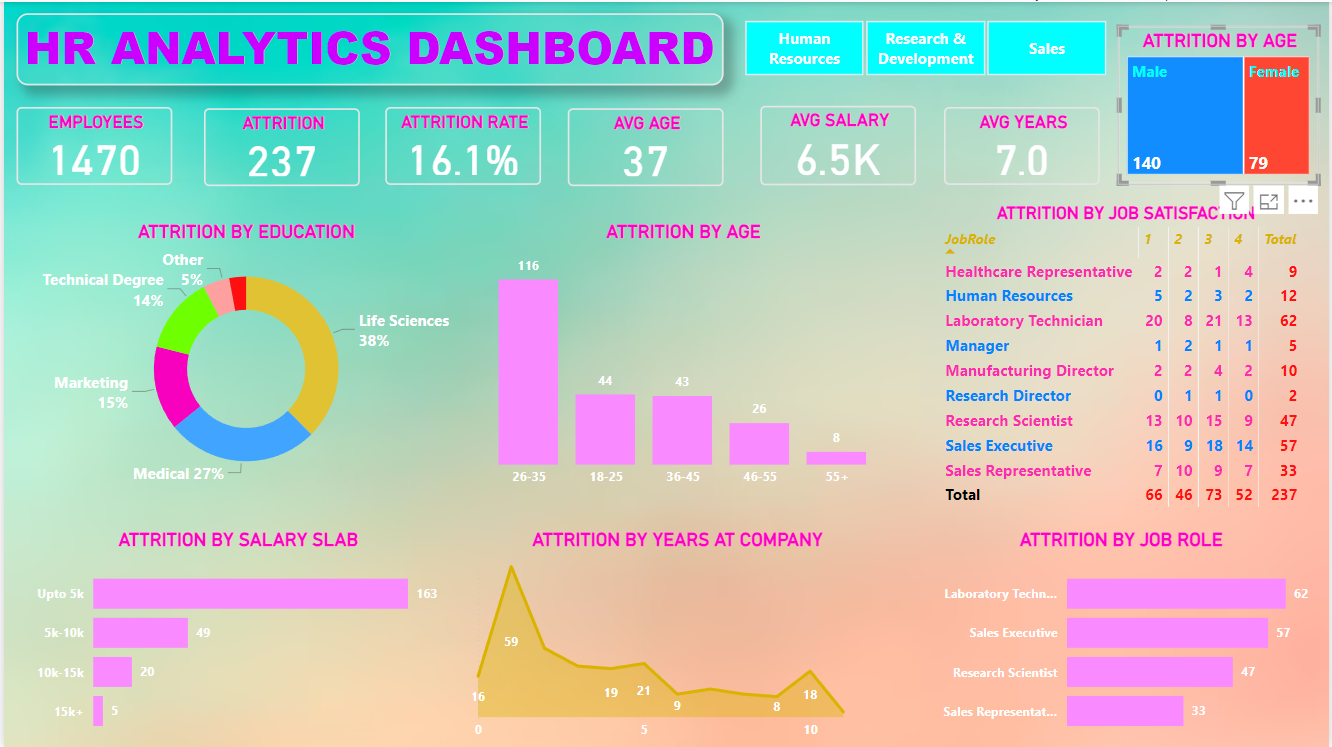

This screenshot's page, from the dashboard's own definition file:
{"tool":"powerbi","page":{"name":"Page 1","canvas":[1280,720],"ordinal":0},"visuals":[{"type":"card","title":"EMPLOYEES","fields":{"Values":["CountNonNull(HR_Analytics.EmpID)"]},"box":[11.7,101.6,150.3,75.1],"z":0},{"type":"card","title":"ATTRITION","fields":{"Values":["Sum(HR_Analytics.AttritionCount)"]},"box":[193,102.3,150.3,75.1],"z":1000},{"type":"card","title":"ATTRITION RATE","fields":{"Values":["HR_Analytics.AttritionRate"]},"box":[367.9,101.1,150.3,75.1],"z":2000},{"type":"card","title":"AVG AGE","fields":{"Values":["Avg(HR_Analytics.Age)"]},"box":[544.1,102.3,150.3,75.1],"z":3000},{"type":"card","title":"AVG SALARY","fields":{"Values":["Avg(HR_Analytics.MonthlyIncome)"]},"box":[729.4,99.8,150.3,76.4],"z":4000},{"type":"card","title":"AVG YEARS","fields":{"Values":["Avg(HR_Analytics.YearsAtCompany)"]},"box":[906.9,101.1,150.3,75.1],"z":5000},{"type":"donutChart","title":"ATTRITION BY EDUCATION","fields":{"Category":["HR_Analytics.EducationField"],"Y":["Sum(HR_Analytics.AttritionCount)"]},"box":[25.9,211.2,417.2,265.6],"z":6000},{"type":"columnChart","title":"ATTRITION BY AGE","fields":{"Category":["HR_Analytics.AgeGroup"],"Y":["Sum(HR_Analytics.AttritionCount)"]},"box":[443.1,211.2,426.2,265.6],"z":7000},{"type":"pivotTable","title":"ATTRITION BY JOB SATISFACTION","fields":{"Rows":["HR_Analytics.JobRole"],"Columns":["HR_Analytics.JobSatisfaction"],"Values":["Sum(HR_Analytics.AttritionCount)"]},"box":[896.5,193,373.1,301.9],"z":8000},{"type":"barChart","title":"ATTRITION BY SALARY SLAB","fields":{"Category":["HR_Analytics.SalarySlab"],"Y":["Sum(HR_Analytics.AttritionCount)"]},"box":[25.9,507.9,401.6,212.5],"z":9000},{"type":"barChart","title":"ATTRITION BY JOB ROLE","fields":{"Category":["HR_Analytics.JobRole"],"Y":["Sum(HR_Analytics.AttritionCount)"]},"box":[888.7,507.9,378.3,212.5],"z":10000},{"type":"stackedAreaChart","title":"ATTRITION BY YEARS AT COMPANY","fields":{"Category":["HR_Analytics.YearsAtCompany"],"Y":["Sum(HR_Analytics.AttritionCount)"]},"box":[443.1,507.9,414.6,212.5],"z":11000},{"type":"treemap","title":"ATTRITION BY AGE","fields":{"Group":["HR_Analytics.Gender"],"Values":["Sum(HR_Analytics.AttritionCount)"]},"box":[1075.3,23.3,194.3,152.9],"z":12000},{"type":"slicer","fields":{"Values":["HR_Analytics.Department"]},"box":[689.2,10.4,399,67.4],"z":13000},{"type":"textbox","box":[11.7,10.4,682.8,70],"z":14000}]}

Visuals, with their boxes in screenshot pixels (x1, y1, x2, y2), scaled from the page's 1280x720 canvas onto the 1332x747 screenshot:
"EMPLOYEES" card: <box>12,105,169,183</box>
"ATTRITION" card: <box>201,106,357,184</box>
"ATTRITION RATE" card: <box>383,105,539,183</box>
"AVG AGE" card: <box>566,106,723,184</box>
"AVG SALARY" card: <box>759,104,915,183</box>
"AVG YEARS" card: <box>944,105,1100,183</box>
"ATTRITION BY EDUCATION" donutChart: <box>27,219,461,495</box>
"ATTRITION BY AGE" columnChart: <box>461,219,905,495</box>
"ATTRITION BY JOB SATISFACTION" pivotTable: <box>933,200,1321,513</box>
"ATTRITION BY SALARY SLAB" barChart: <box>27,527,445,746</box>
"ATTRITION BY JOB ROLE" barChart: <box>925,527,1318,746</box>
"ATTRITION BY YEARS AT COMPANY" stackedAreaChart: <box>461,527,893,746</box>
"ATTRITION BY AGE" treemap: <box>1119,24,1321,183</box>
slicer - HR_Analytics.Department: <box>717,11,1132,81</box>
textbox: <box>12,11,723,83</box>
